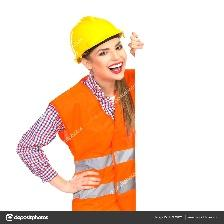Person: (35, 14, 139, 211)
helmet: (69, 15, 126, 68)
vest: (53, 73, 134, 203)
